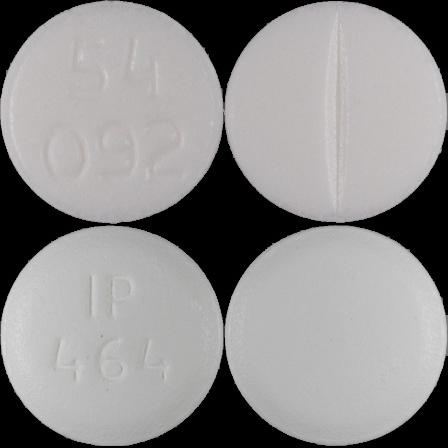66336-428: (0, 0, 224, 224)
